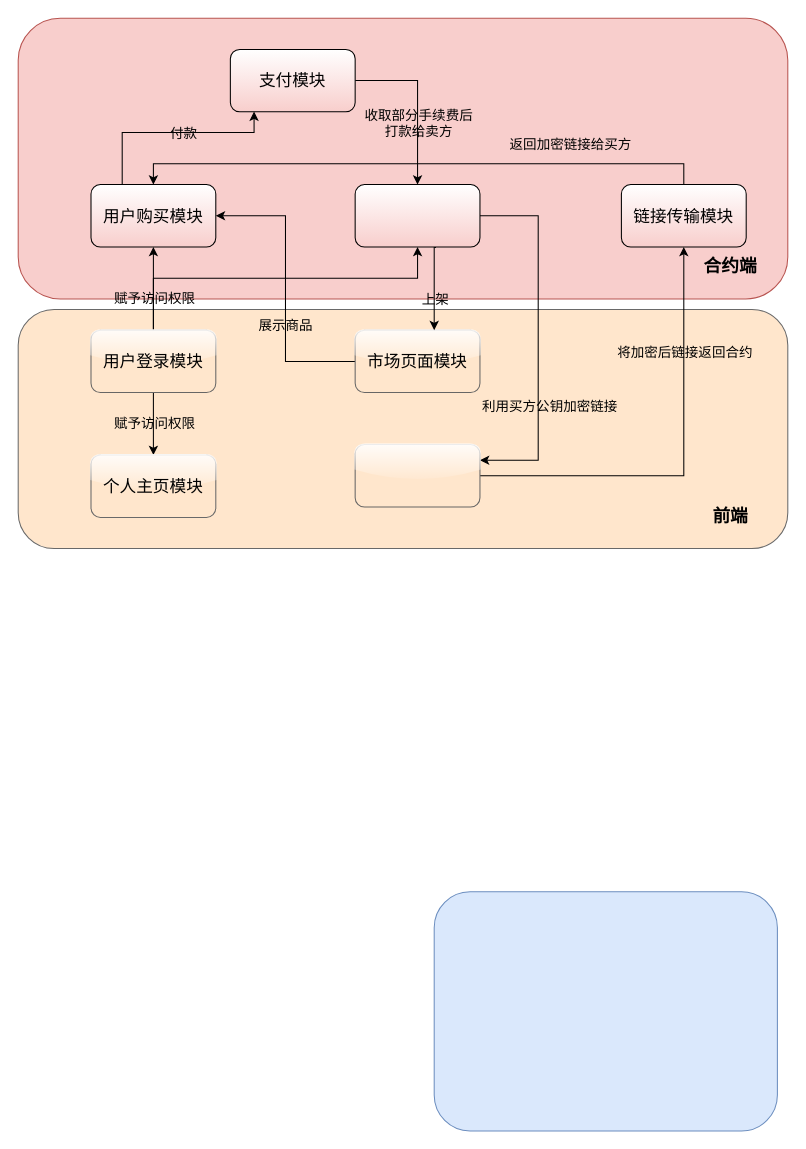
The diagram is 806 pixels wide and 1149 high, and some of its shapes have lost their labels. Each missing label, with the box of its shape:
后端: (433, 891, 777, 1131)
用户发布模块: (354, 184, 480, 247)
链接加密模块: (354, 444, 480, 507)
